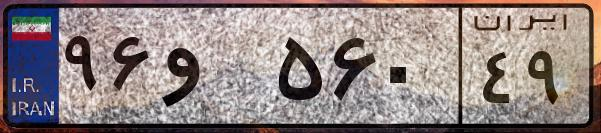0: (385, 28, 445, 110)
4: (475, 38, 525, 113)
5: (270, 28, 330, 110)
6: (330, 28, 385, 110), (110, 28, 158, 98)
9: (57, 26, 110, 100), (525, 38, 570, 115)
و: (158, 20, 270, 120)
